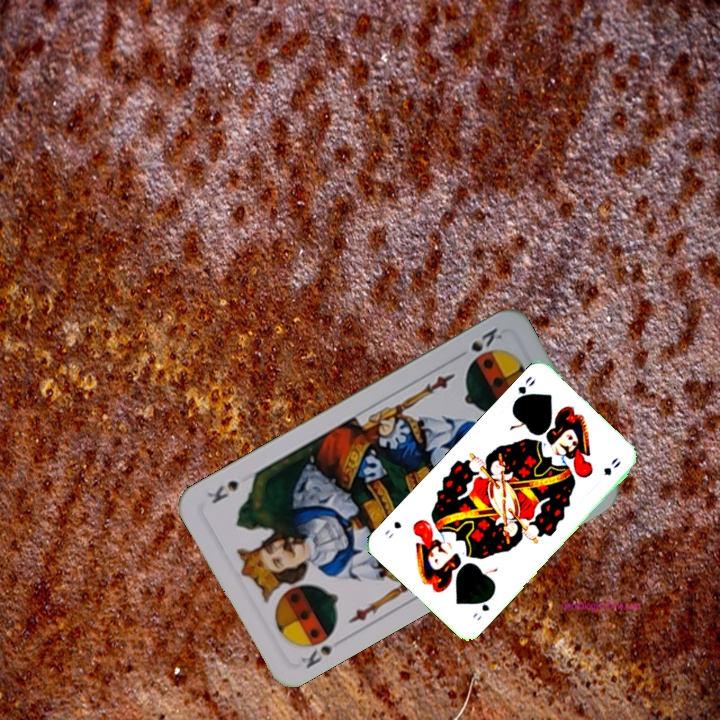GO: (509, 372, 539, 407), (469, 592, 495, 623)
SK: (466, 323, 505, 355), (296, 641, 336, 671)
